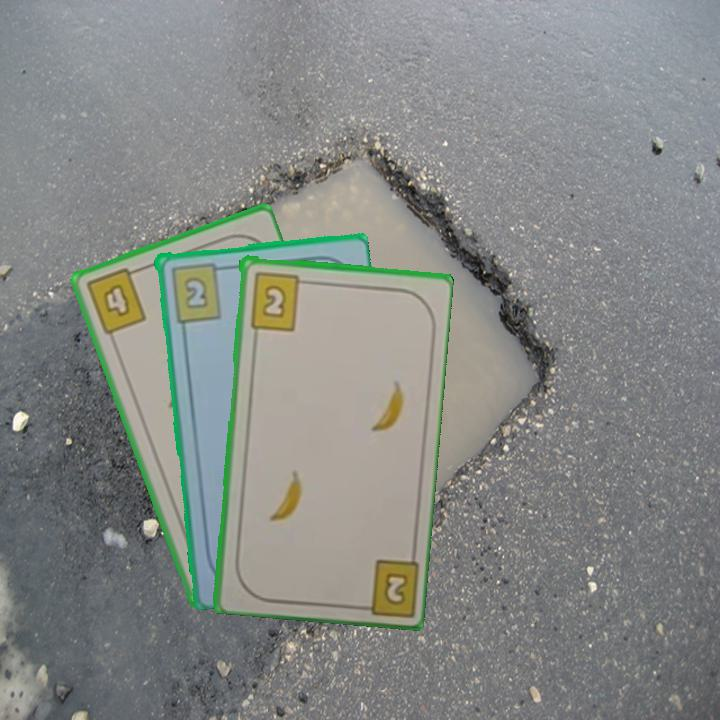2b: (246, 268, 311, 333), (350, 555, 419, 616), (167, 259, 229, 325)
4b: (81, 263, 149, 338)
